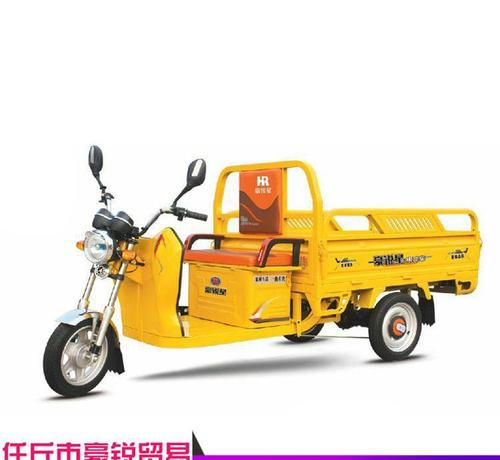tricycle: (40, 135, 489, 405)
